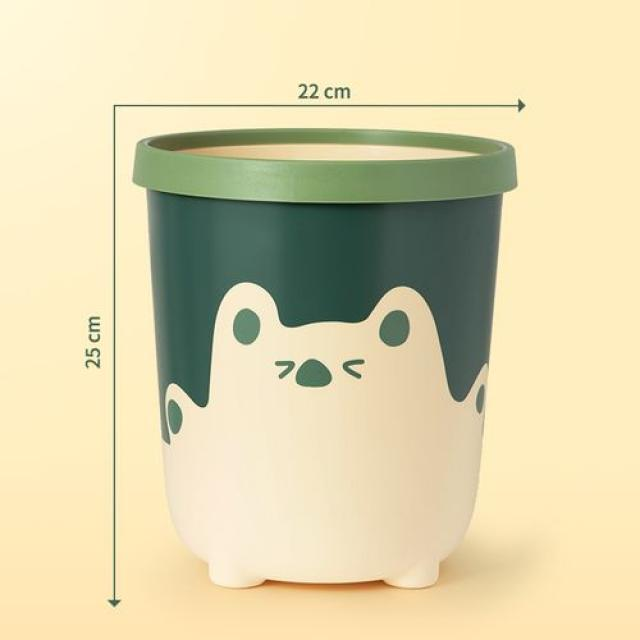dustbin: (120, 120, 521, 600)
